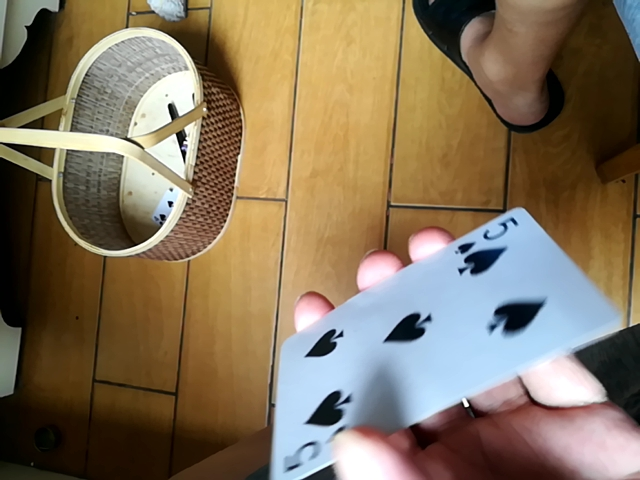ht 5: (264, 207, 626, 479)
